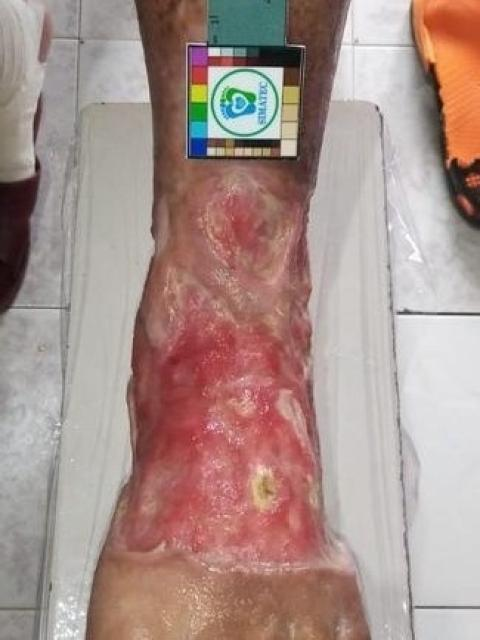wound: (122, 264, 339, 570), (201, 173, 303, 287)
